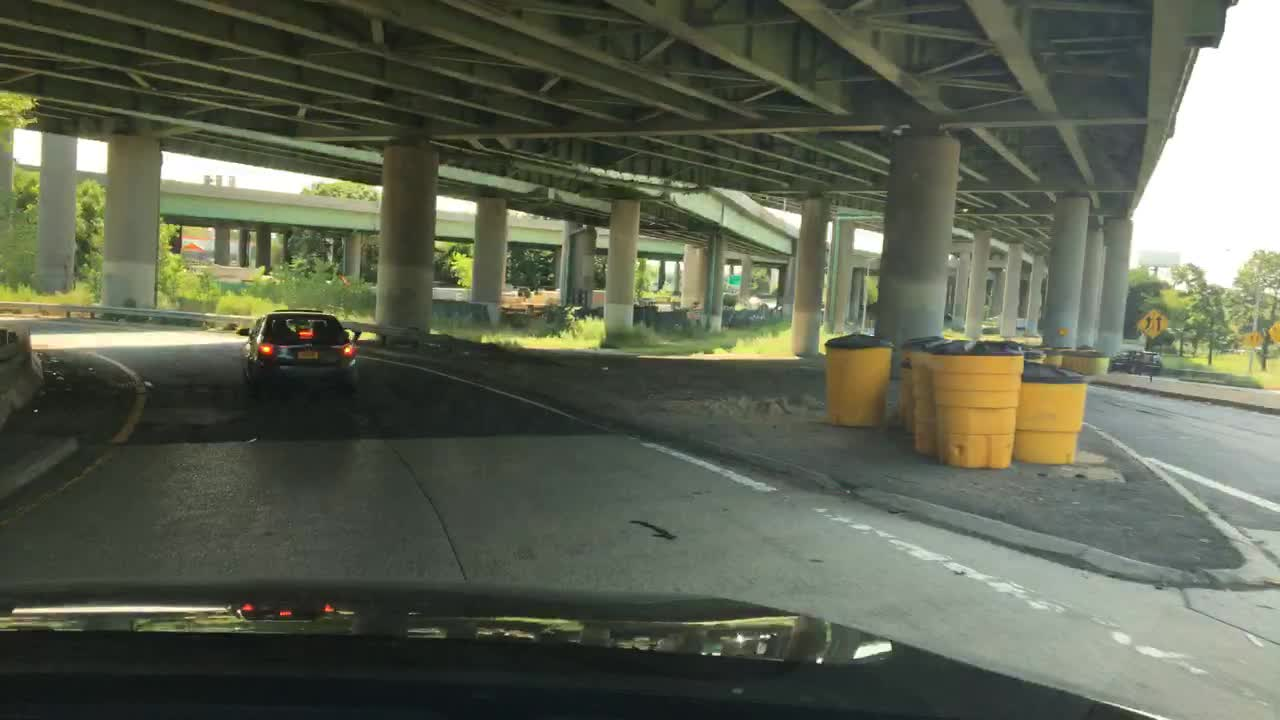car: (241, 305, 363, 384), (1108, 347, 1160, 379)
traffic sign: (1137, 307, 1170, 340), (1239, 328, 1262, 350), (1266, 321, 1278, 345), (728, 271, 740, 286)
